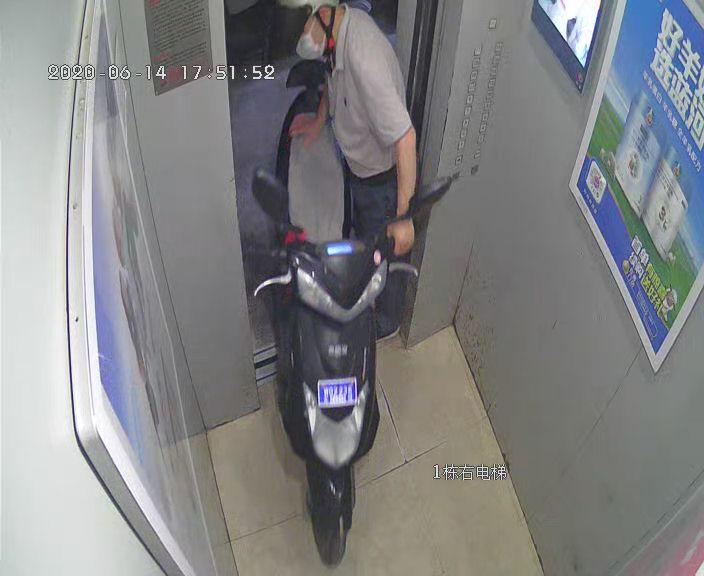Electric-bicycle: (250, 56, 455, 560)
